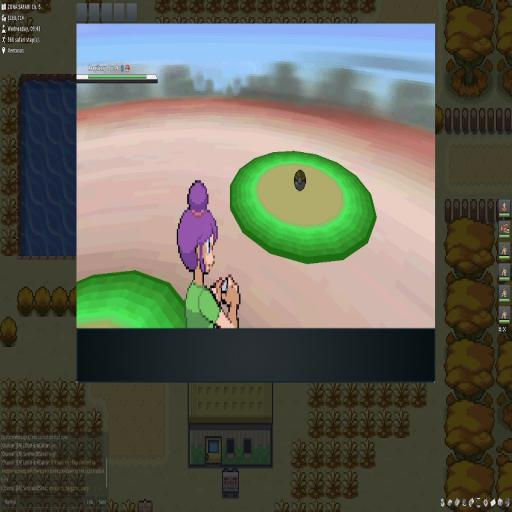SUCESSFULCAPTURE: (294, 169, 306, 191)
